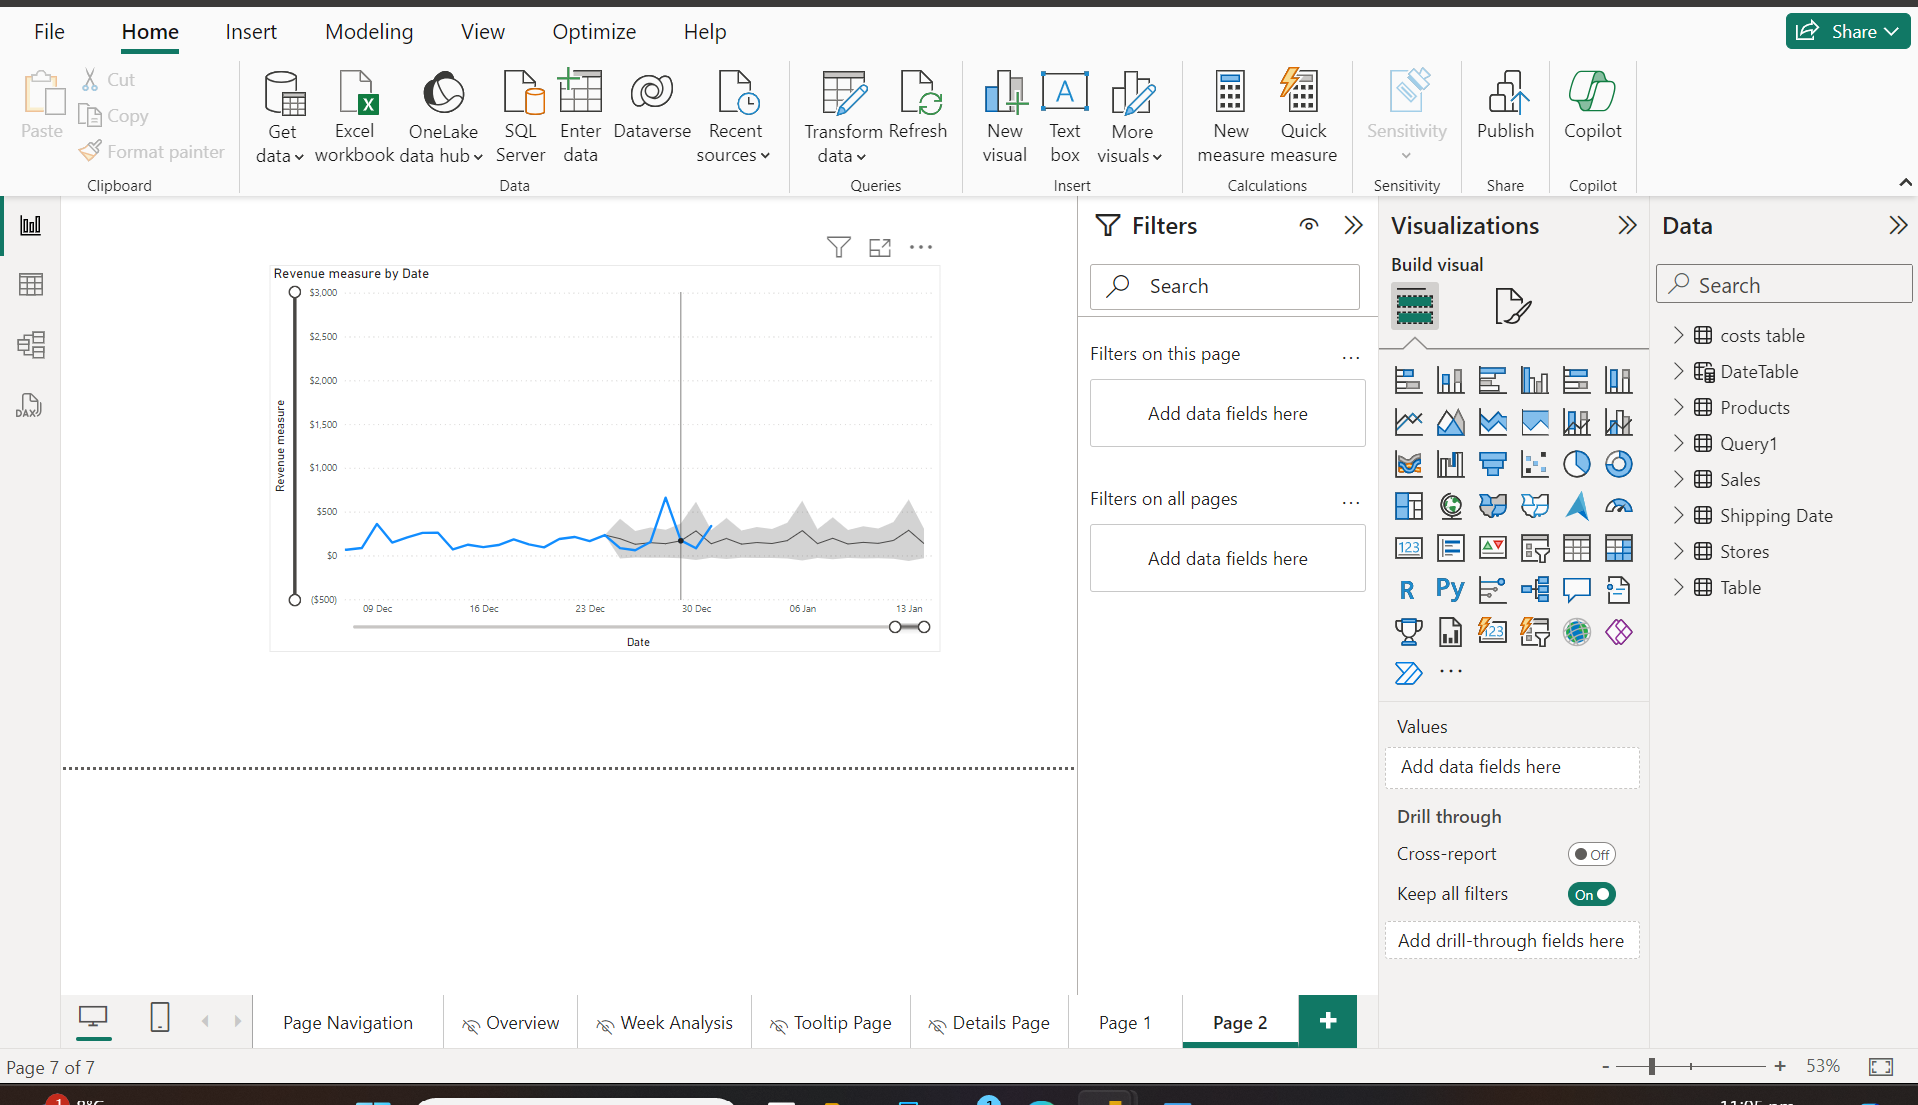

This screenshot's page, from the dashboard's own definition file:
{"tool":"powerbi","page":{"name":"Page 2","canvas":[1280,720],"ordinal":6},"visuals":[{"type":"lineChart","fields":{"Category":["DateTable.Date"],"Y":["Sales.Revenue measure"]},"box":[261.9,86.9,846.5,487.9],"z":0}]}

Visuals, with their boxes on the page's 1280x720 design canvas (x1, y1, x2, y2). These are canvas units, not pixel positions in the 1918x1105 screenshot, which may show the page scaled, cropped or inside an application window:
lineChart - DateTable.Date x Sales.Revenue measure: (262, 87, 1108, 575)
